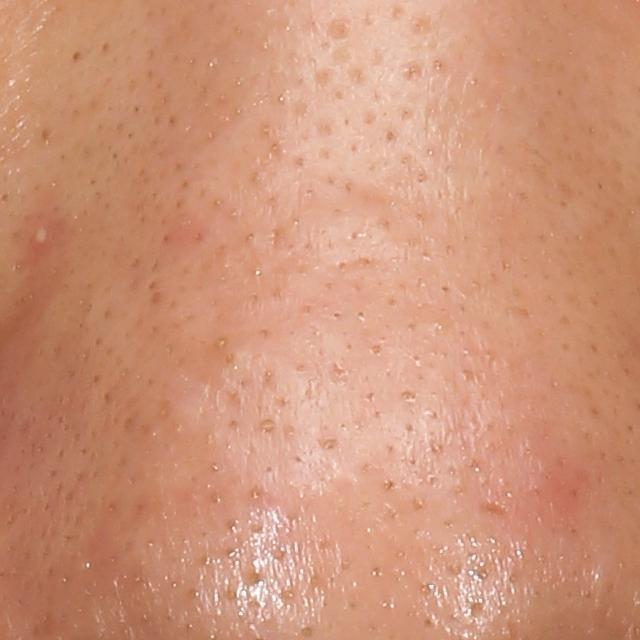comedo: (257, 416, 276, 433), (368, 342, 385, 355)
pustule: (24, 220, 53, 251)
